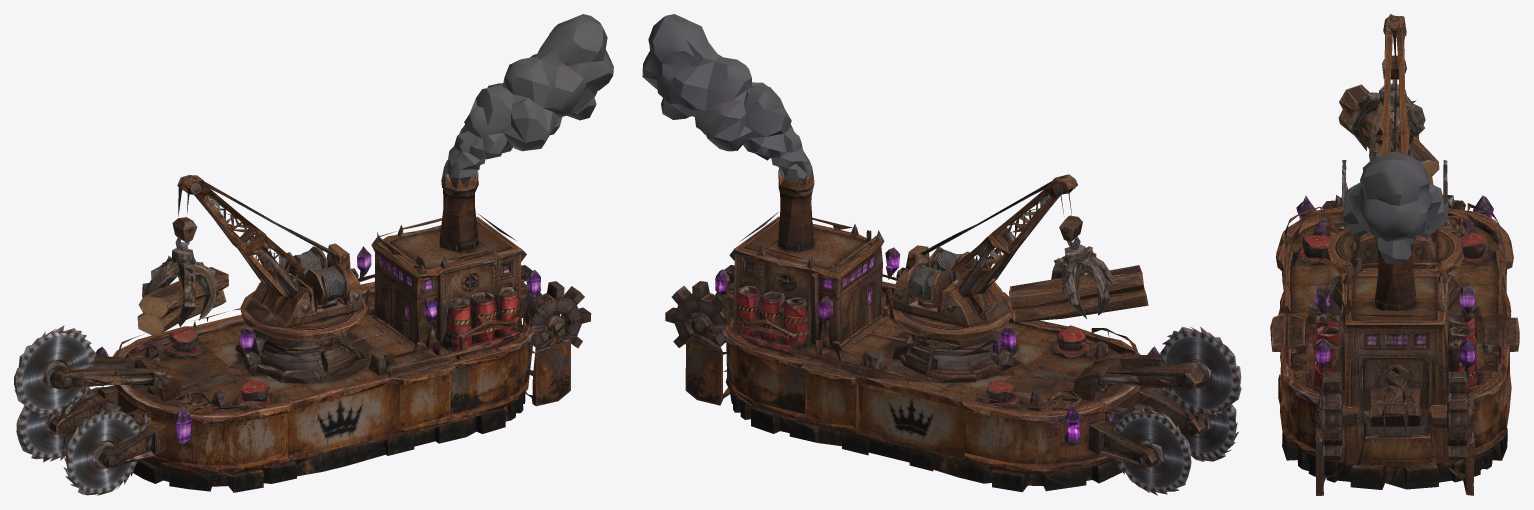
Rendered from SawBarge.fbx.
3 views of the same model, side by side, from view 1: azimuth 30°, elevation 25°; view 2: azimuth 150°, elevation 25°; view 3: azimuth 270°, elevation 25° (orthographic). The views are drawn at different scales.
Parts seen in each view (by area): view 1: SawBarge; view 2: SawBarge; view 3: SawBarge.
Part boxes in pixels (x1,y1,x2,y2): SawBarge: (14, 14, 613, 495); SawBarge: (642, 14, 1241, 495); SawBarge: (1270, 14, 1519, 495).
Size of the model in its own units: 6.5 by 3.58 by 2.17.
Materials: 1 (1 with a texture image).
